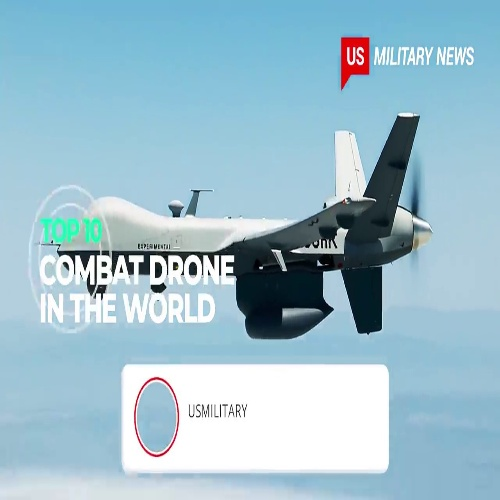uav197: (62, 113, 435, 339)
